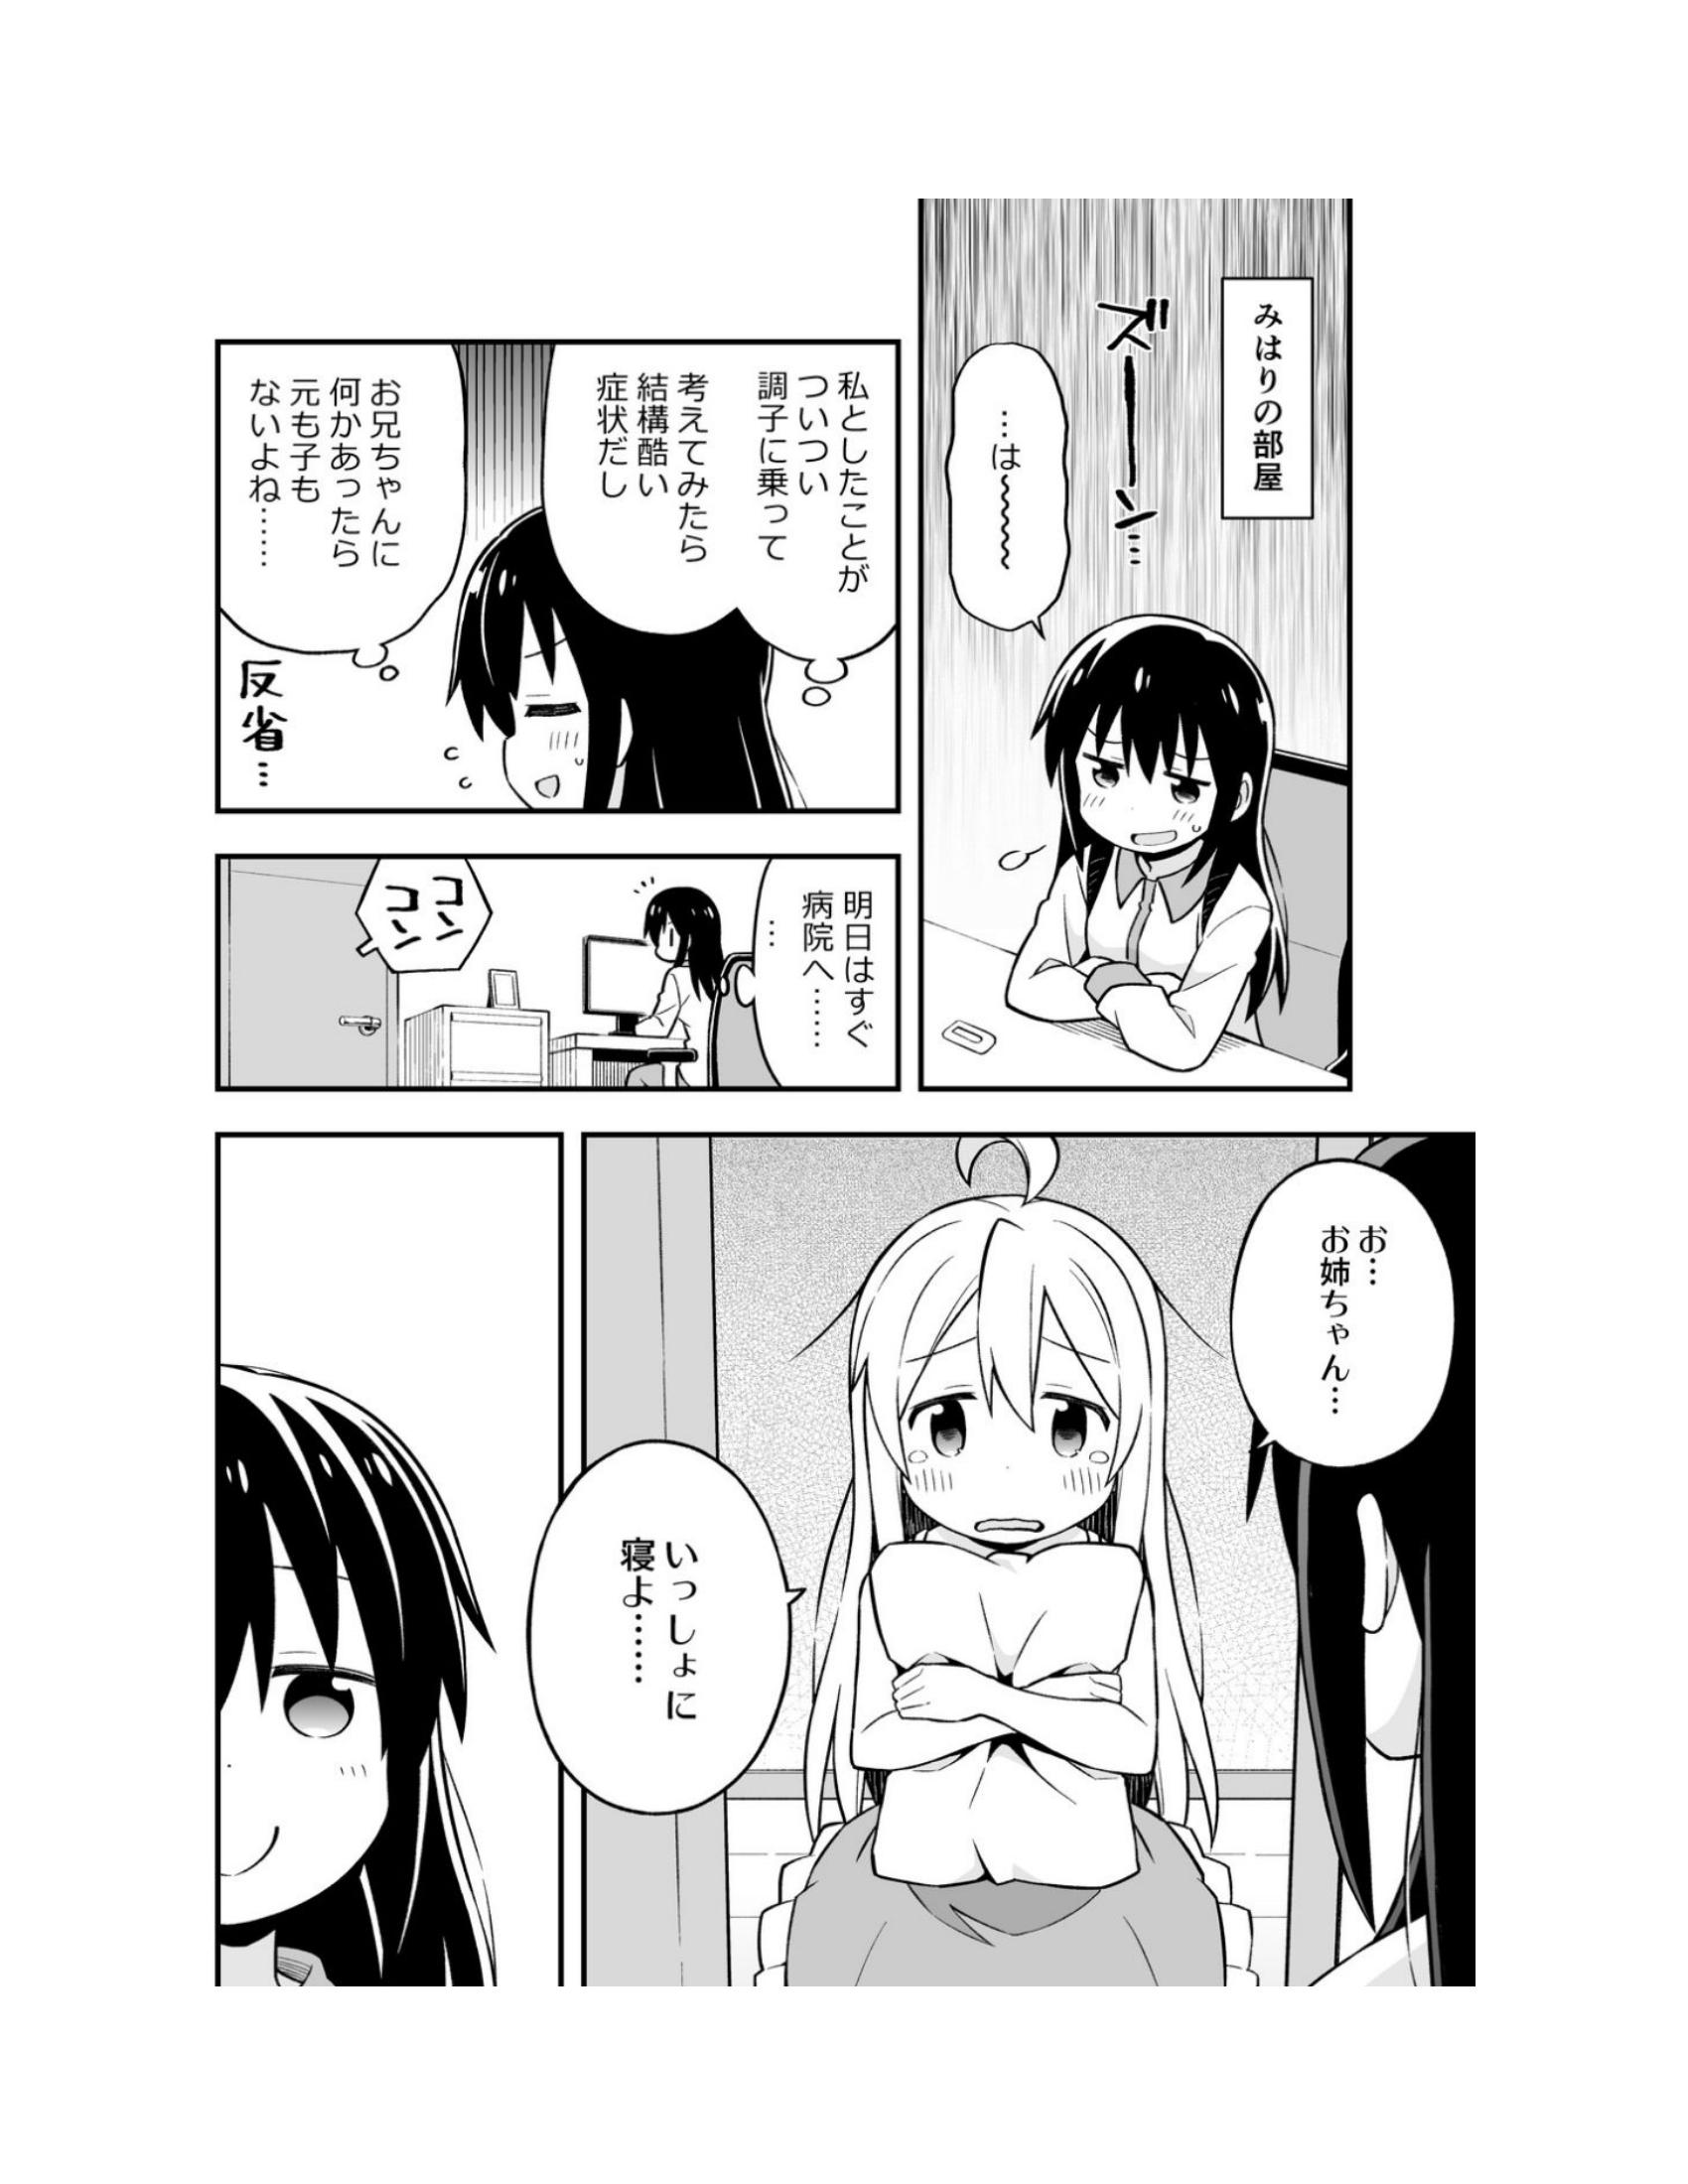a: (541, 307, 924, 682), (504, 1434, 837, 1783), (215, 326, 473, 674), (1231, 1143, 1445, 1498), (1207, 236, 1362, 535), (739, 854, 911, 1120), (957, 319, 1076, 667)
